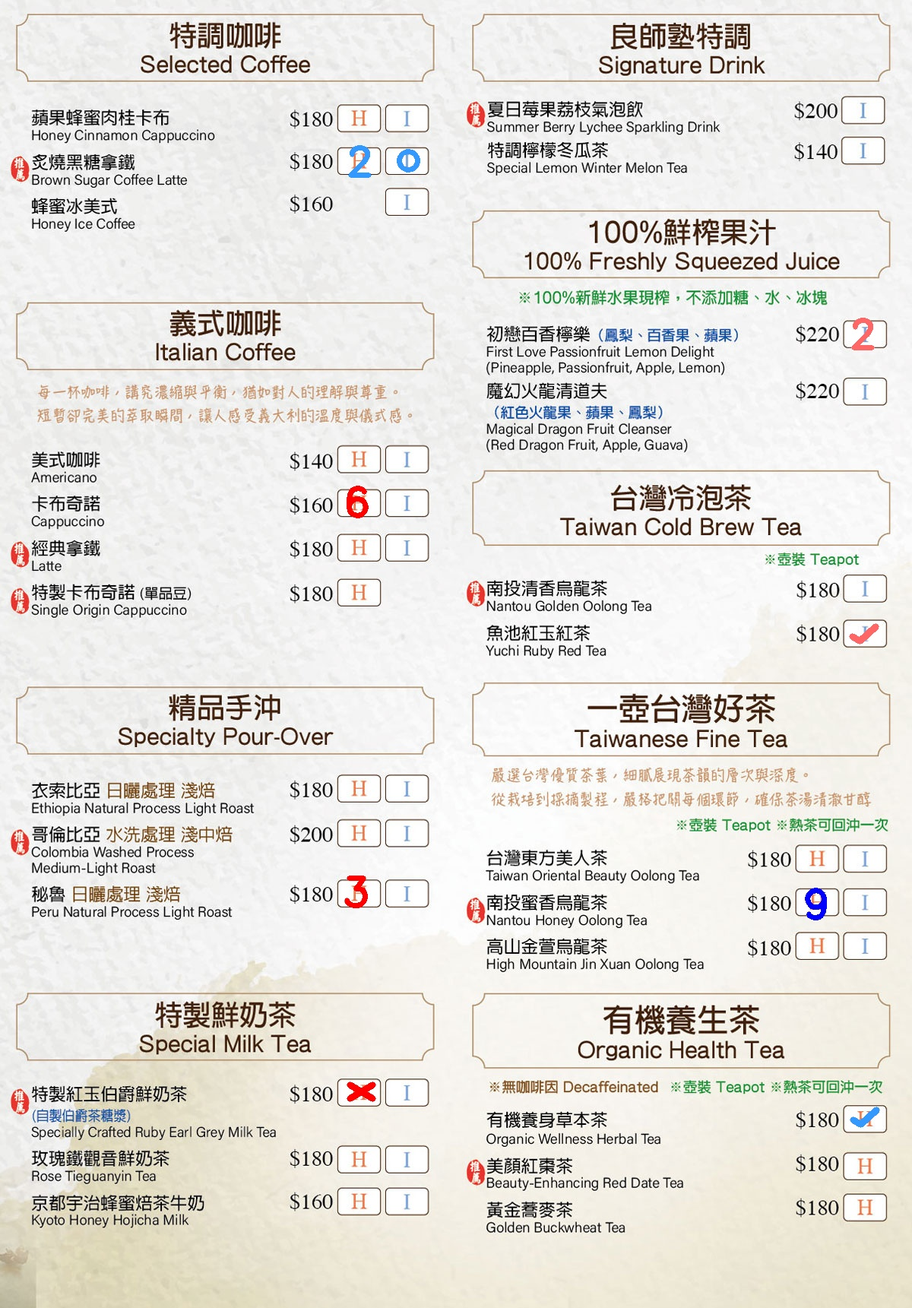marked_hollow: (389, 149, 428, 173)
marked_number_2: (845, 321, 884, 345), (342, 149, 381, 173)
marked_number_3: (338, 879, 377, 903)
marked_number_6: (339, 489, 378, 513)
marked_number_9: (799, 892, 838, 915)
marked_tick: (845, 622, 884, 646), (846, 1106, 885, 1129)
marked_x: (342, 1080, 381, 1104)
